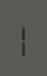one: (19, 20, 26, 56)
